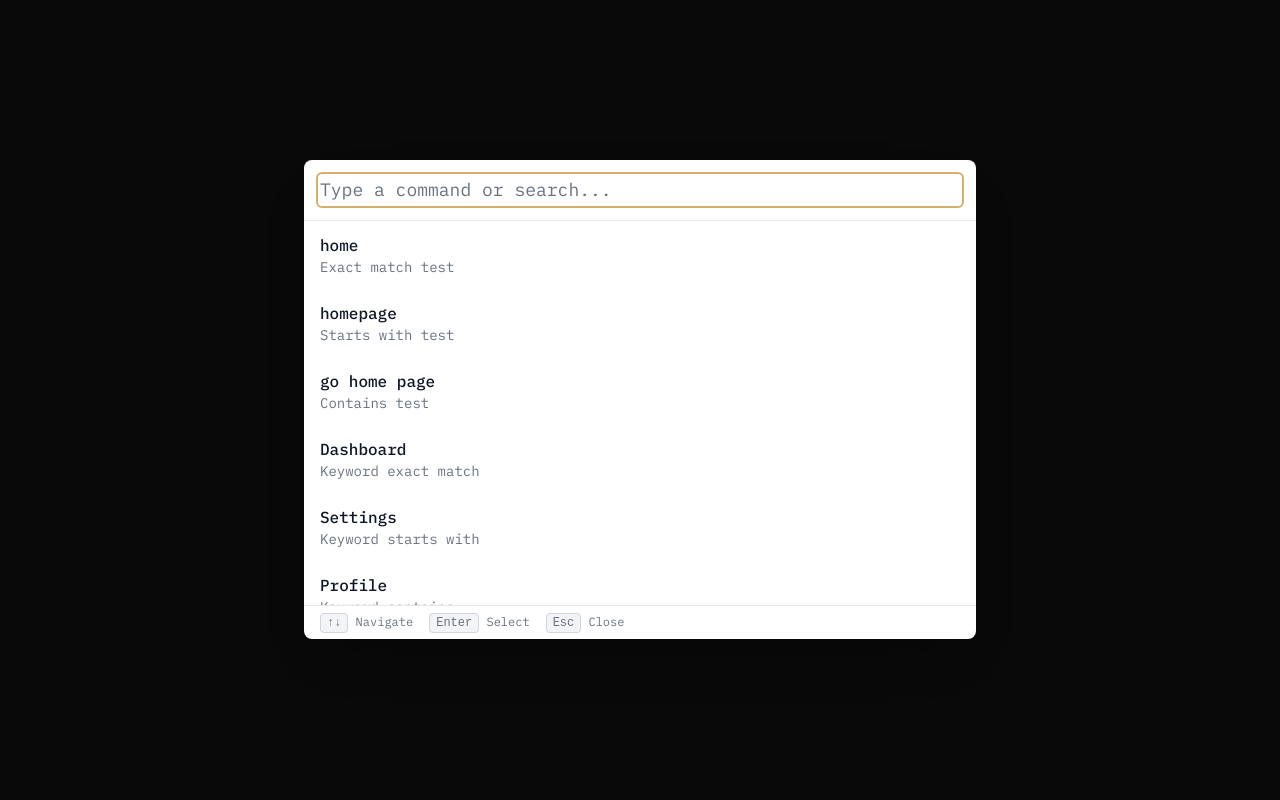
CommandPalette Search Ranking › shows no results for non-matching query
Type "zzz nonexistent zzz" into the field at point(640, 190), box x1=320 y1=176 x2=960 y2=204
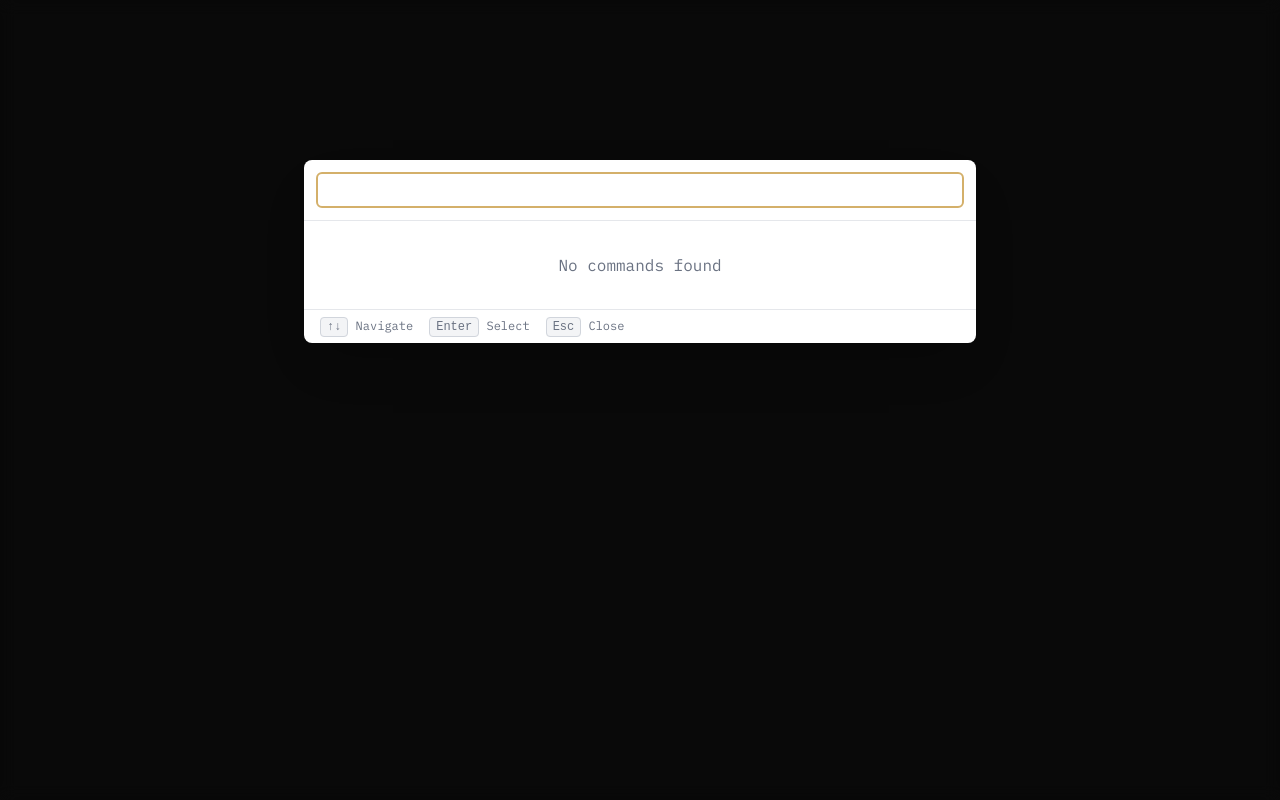
Expected: the text "No commands found" is shown, x1=558 y1=255 x2=722 y2=275
